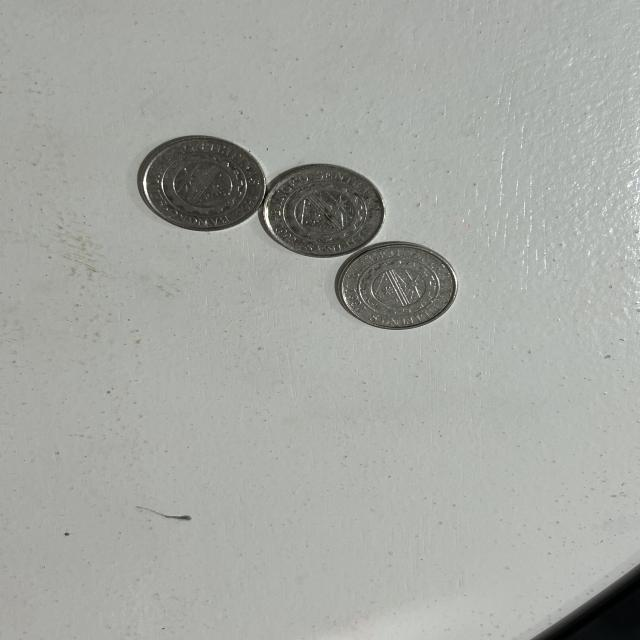1_Old_Back: (156, 146, 252, 220), (274, 174, 366, 246), (354, 258, 440, 323)
